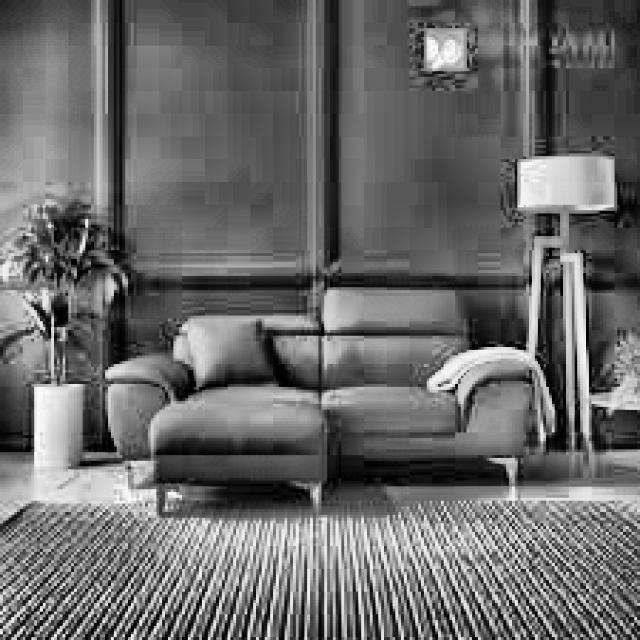sofa: (102, 296, 535, 515)
